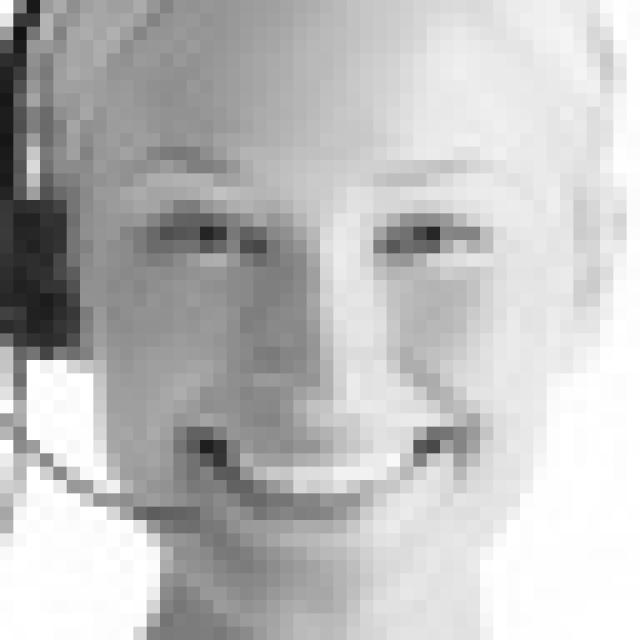happy: (125, 139, 536, 542)
